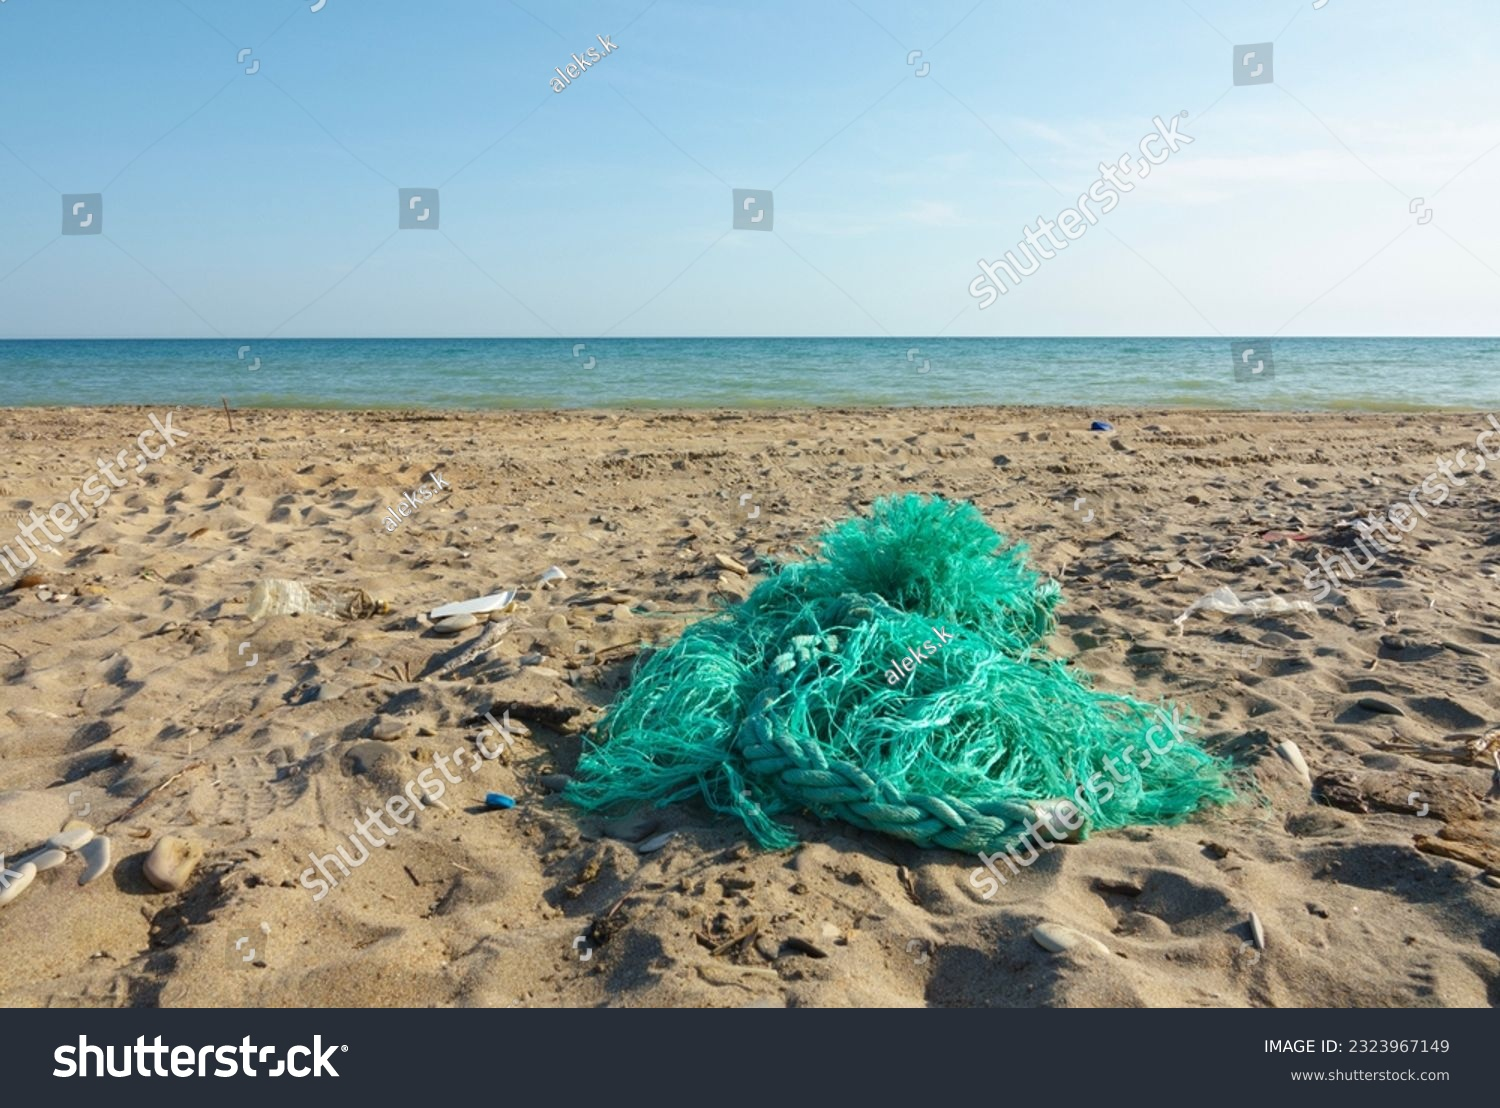fishingnet: (549, 484, 1238, 860)
